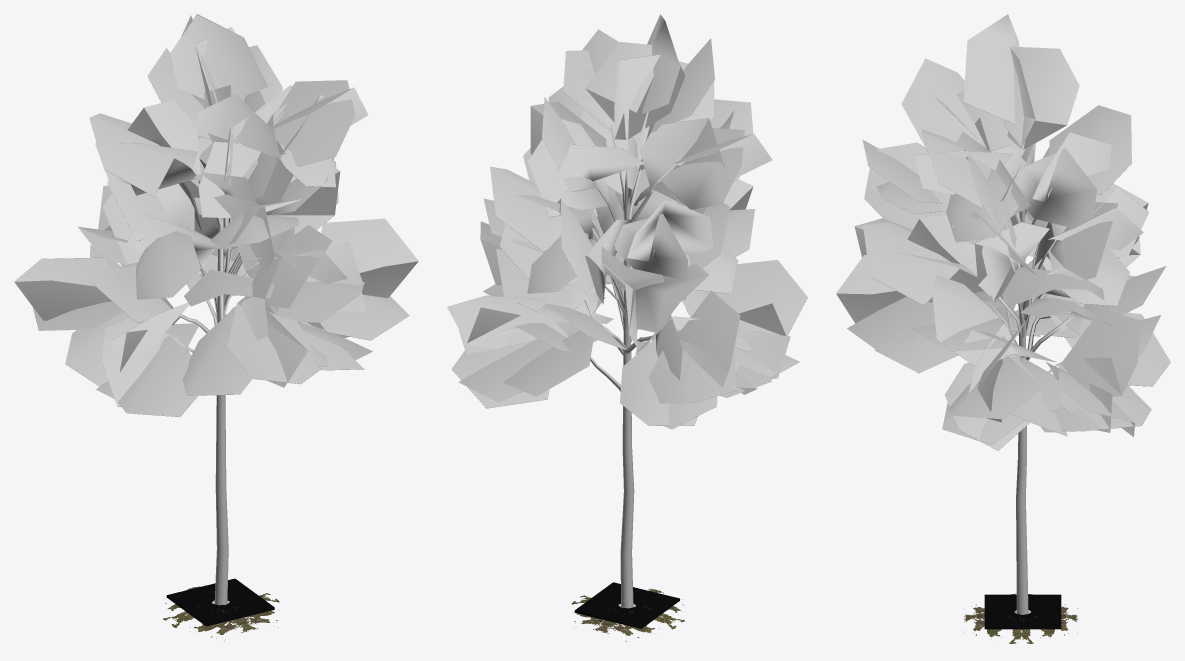
File: TreeSmall_Static.FBX
3 views of the same model, side by side, from view 1: azimuth 30°, elevation 25°; view 2: azimuth 150°, elevation 25°; view 3: azimuth 270°, elevation 25° (orthographic). The views are drawn at different scales.
Parts seen in each view (by area): view 1: TreeSmall_Static, Tree_Grate, Tree_Groundplane; view 2: TreeSmall_Static, Tree_Grate, Tree_Groundplane; view 3: TreeSmall_Static, Tree_Grate, Tree_Groundplane.
Boxes of the visible parts, x1,y1,x2,y2 form: TreeSmall_Static: (14, 14, 418, 605); Tree_Grate: (166, 578, 274, 626); Tree_Groundplane: (163, 586, 279, 641); TreeSmall_Static: (447, 14, 807, 608); Tree_Grate: (574, 582, 679, 628); Tree_Groundplane: (571, 588, 684, 641); TreeSmall_Static: (836, 14, 1170, 614); Tree_Grate: (984, 594, 1061, 629); Tree_Groundplane: (963, 593, 1077, 643).
Size of the model in its own units: 363 by 643 by 328.
